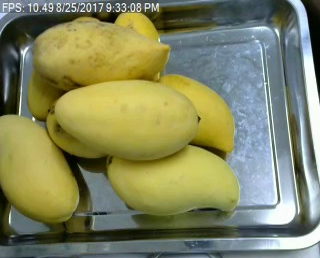Mango: (57, 80, 198, 160), (107, 142, 238, 213), (35, 20, 170, 87), (0, 114, 78, 222), (155, 73, 235, 152), (114, 10, 161, 81), (28, 63, 81, 118)
